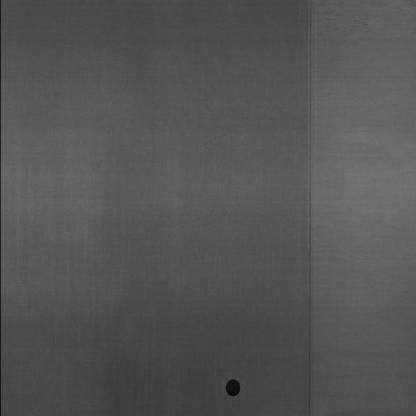punching_hole: (219, 377, 244, 399)
welding_line: (294, 2, 326, 415)
